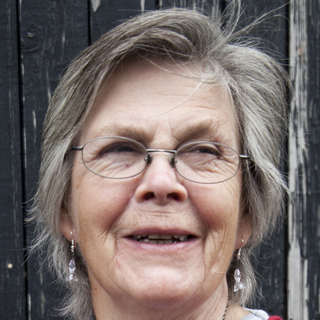eye: (98, 139, 145, 163), (180, 141, 225, 165)
